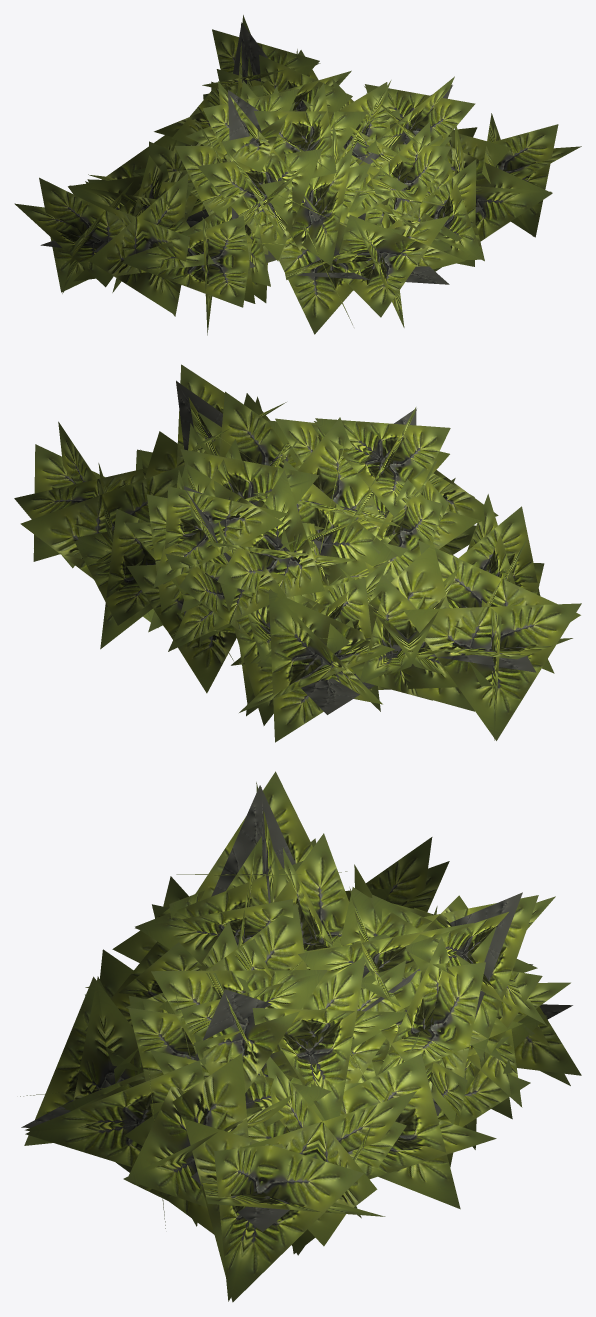
Rendered from BushSmall03.FBX.
3 views of the same model, one above another, from view 1: azimuth 30°, elevation 25°; view 2: azimuth 150°, elevation 25°; view 3: azimuth 270°, elevation 25° (orthographic). The views are drawn at different scales.
Parts seen in each view (by area): view 1: Bush_LOD0; view 2: Bush_LOD0; view 3: Bush_LOD0.
Part boxes in pixels (<box>): Bush_LOD0: <box>14,15,581,335</box>; Bush_LOD0: <box>14,364,581,742</box>; Bush_LOD0: <box>20,771,581,1302</box>.
Size of what is drawn, in the model's own units: 319 by 146 by 223.
